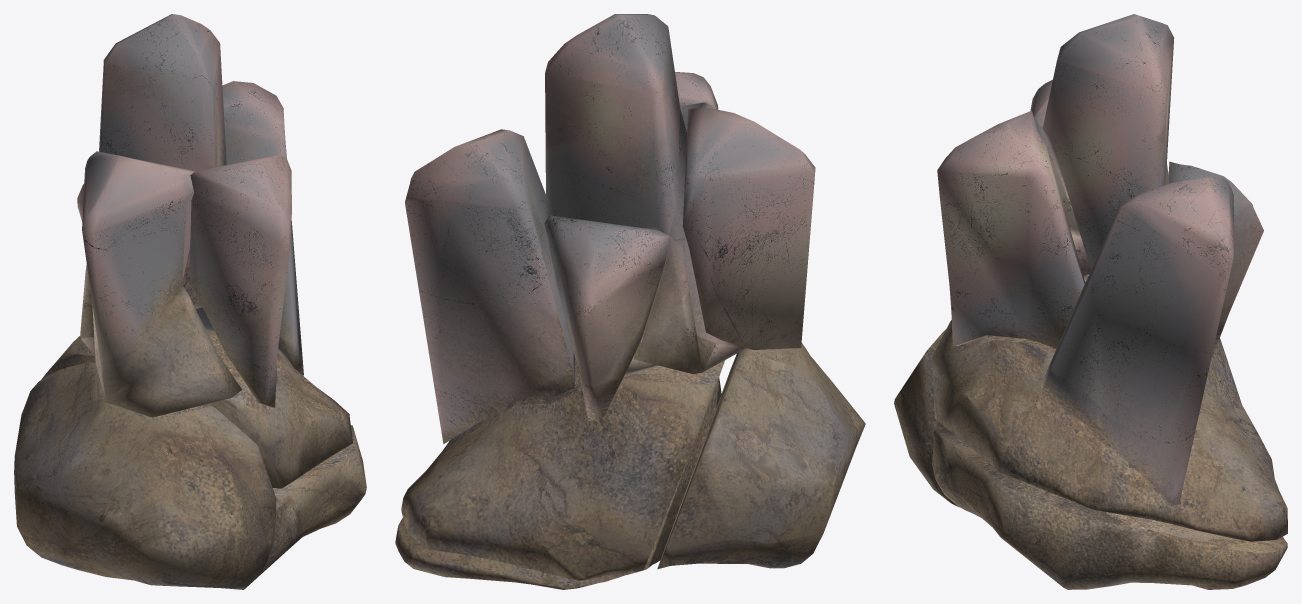
Rendered from SM_Mineral_4_Pieces.fbx.
The picture shows the model from 3 angles, left to right: view 1: azimuth 30°, elevation 25°; view 2: azimuth 150°, elevation 25°; view 3: azimuth 270°, elevation 25°; orthographic projection. The views are drawn at different scales.
Parts seen in each view (by area): view 1: SM_Mineral_4_Piece_1, SM_Mineral_4_Piece_5, SM_Mineral_4_Piece_3, SM_Mineral_4_Piece_4, SM_Mineral_4_Piece_7, SM_Mineral_4_Piece_2, SM_Mineral_4_Piece_8; view 2: SM_Mineral_4_Piece_7, SM_Mineral_4_Piece_2, SM_Mineral_4_Piece_4, SM_Mineral_4_Piece_1, SM_Mineral_4_Piece_5, SM_Mineral_4_Piece_6, SM_Mineral_4_Piece_8, SM_Mineral_4_Piece_3; view 3: SM_Mineral_4_Piece_2, SM_Mineral_4_Piece_7, SM_Mineral_4_Piece_3, SM_Mineral_4_Piece_8, SM_Mineral_4_Piece_4, SM_Mineral_4_Piece_1, SM_Mineral_4_Piece_6, SM_Mineral_4_Piece_5.
Boxes of the visible parts, x1=… form: SM_Mineral_4_Piece_1: x1=14, y1=361, x2=276, y2=589; SM_Mineral_4_Piece_5: x1=82, y1=151, x2=241, y2=417; SM_Mineral_4_Piece_3: x1=189, y1=155, x2=291, y2=407; SM_Mineral_4_Piece_4: x1=80, y1=14, x2=226, y2=355; SM_Mineral_4_Piece_7: x1=41, y1=330, x2=352, y2=488; SM_Mineral_4_Piece_2: x1=196, y1=81, x2=303, y2=375; SM_Mineral_4_Piece_8: x1=259, y1=425, x2=366, y2=575; SM_Mineral_4_Piece_7: x1=401, y1=357, x2=725, y2=580; SM_Mineral_4_Piece_2: x1=405, y1=129, x2=574, y2=444; SM_Mineral_4_Piece_4: x1=545, y1=14, x2=746, y2=374; SM_Mineral_4_Piece_1: x1=657, y1=343, x2=865, y2=569; SM_Mineral_4_Piece_5: x1=682, y1=107, x2=815, y2=349; SM_Mineral_4_Piece_6: x1=544, y1=215, x2=669, y2=420; SM_Mineral_4_Piece_8: x1=395, y1=377, x2=721, y2=589; SM_Mineral_4_Piece_3: x1=675, y1=72, x2=718, y2=131; SM_Mineral_4_Piece_2: x1=1040, y1=177, x2=1233, y2=505; SM_Mineral_4_Piece_7: x1=931, y1=320, x2=1287, y2=541; SM_Mineral_4_Piece_3: x1=937, y1=110, x2=1085, y2=348; SM_Mineral_4_Piece_8: x1=932, y1=429, x2=1287, y2=589; SM_Mineral_4_Piece_4: x1=1042, y1=14, x2=1174, y2=269; SM_Mineral_4_Piece_1: x1=894, y1=275, x2=1087, y2=506; SM_Mineral_4_Piece_6: x1=1168, y1=161, x2=1263, y2=359; SM_Mineral_4_Piece_5: x1=1030, y1=79, x2=1090, y2=276.
Size of the model in its own units: 0.6575 by 0.6744 by 0.9959.
